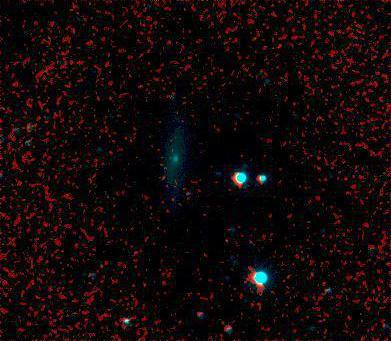star: (208, 225, 238, 255)
